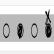correct: (17, 20, 24, 41)
no answer: (2, 20, 10, 40), (31, 21, 38, 39)
not correct: (44, 7, 53, 40)
